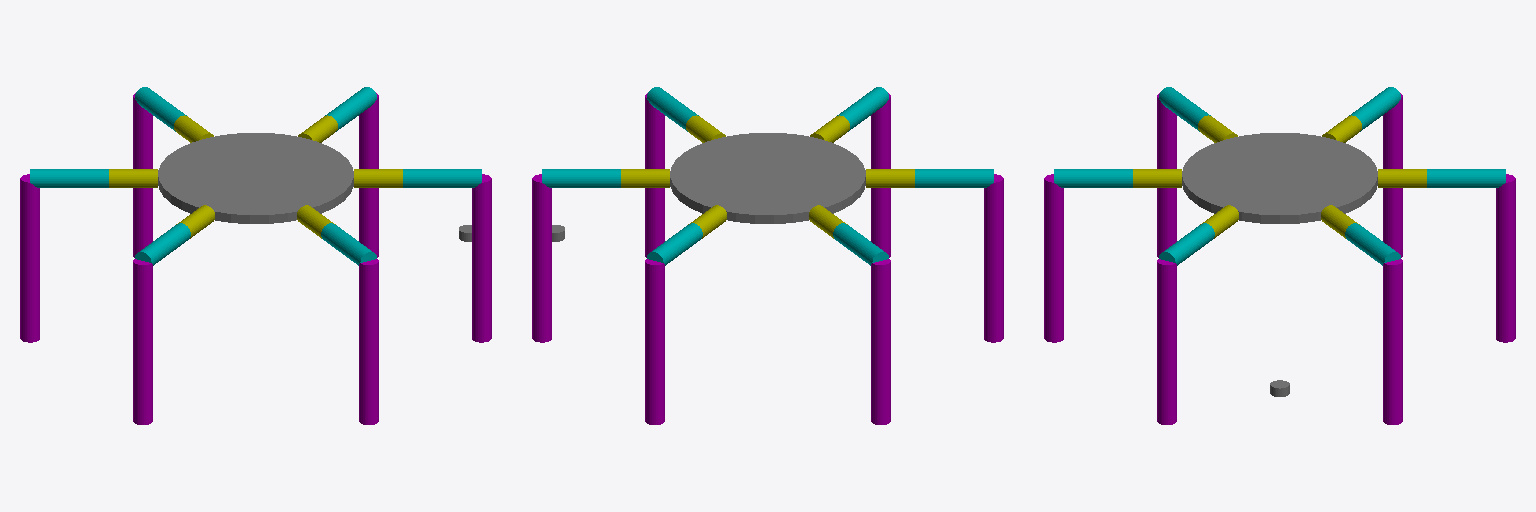
The robot description file, URDF, robot "crab":
<?xml version="1.0" ?>
<!-- =================================================================================== -->
<!-- |    This document was autogenerated by xacro from [local-path]/hexapod_ws/src/crab_proj/robot_discription/urdf/my_robotn4.xacro | -->
<!-- |    EDITING THIS FILE BY HAND IS NOT RECOMMENDED                                 | -->
<!-- =================================================================================== -->
<robot name="crab" xmlns:xacro="http://ros.org/wiki/xacro">
  <!-- Build the body frame -->
  <link name="base_link"/>
  <joint name="foot_tip_test" type="fixed">
    <parent link="base_link"/>
    <child link="foot_tip_test"/>
    <origin rpy="0 0 0" xyz="0 0 0"/>
  </joint>
  <link name="foot_tip_test">
    <visual>
      <origin rpy="0 0 0" xyz="250 0 -120"/>
      <geometry>
        <cylinder length="10" radius="10"/>
      </geometry>
      <material name="grey">
        <color rgba="0.5 0.5 0.5 1"/>
      </material>
    </visual>
  </link>
  <joint name="base_joint" type="fixed">
    <parent link="base_link"/>
    <child link="thorax"/>
    <origin rpy="0 0 0" xyz="0 0 0"/>
  </joint>
  <link name="thorax">
    <visual>
      <origin rpy="0 0 0" xyz="0 0 0"/>
      <geometry>
        <cylinder length="10" radius="100"/>
      </geometry>
      <material name="grey">
        <color rgba="0.5 0.5 0.5 1"/>
      </material>
    </visual>
  </link>
  <!-- Pi parameter -->
  <!-- Joint properties -->
  <!-- Leg macros -->
  <!-- Build robot model -->
  <!-- Build leg -->
  <joint name="leg_center_joint_r1" type="fixed">
    <origin rpy="0 0 0" xyz="86.6 -50 0"/>
    <parent link="thorax"/>
    <child link="leg_center_r1"/>
  </joint>
  <link name="leg_center_r1"/>
  <joint name="coxa_joint_r1" type="revolute">
    <origin rpy="0 0 -0.523598775598" xyz="0 0 0"/>
    <parent link="leg_center_r1"/>
    <child link="coxa_r1"/>
    <axis xyz="0 0 1"/>
    <limit effort="10000" lower="-1.9" upper="2.5" velocity="100"/>
  </joint>
  <!-- link: coxal1-->
  <link name="coxa_r1">
    <visual>
      <origin rpy="0 1.57079632679 0" xyz="25 0 0"/>
      <geometry>
        <cylinder length="50" radius="10"/>
      </geometry>
      <material name="">
        <color rgba="0.7 0.7 0 1"/>
      </material>
    </visual>
  </link>
  <joint name="femur_joint_r1" type="revolute">
    <origin rpy="-1.57079632679 0 0" xyz="50 0 0"/>
    <parent link="coxa_r1"/>
    <child link="femur_r1"/>
    <axis xyz="0 0 -1"/>
    <limit effort="10000" lower="-1.9" upper="2.5" velocity="100"/>
  </joint>
  <link name="femur_r1">
    <visual>
      <origin rpy="0 1.57079632679 0" xyz="40 0 0"/>
      <geometry>
        <cylinder length="80" radius="10"/>
      </geometry>
      <material name="">
        <color rgba="0 0.7 0.7 1"/>
      </material>
    </visual>
  </link>
  <joint name="tibia_joint_r1" type="revolute">
    <origin rpy="3.14159265359 0 1.57079632679" xyz="80 0 0"/>
    <parent link="femur_r1"/>
    <child link="tibia_r1"/>
    <axis xyz="0 0 1"/>
    <limit effort="10000" lower="-1.9" upper="2.5" velocity="100"/>
  </joint>
  <link name="tibia_r1">
    <visual>
      <origin rpy="0 1.57079632679 0" xyz="90 0 0"/>
      <geometry>
        <cylinder length="180" radius="10"/>
      </geometry>
      <material name="">
        <color rgba="0.7 0 0.7 1"/>
      </material>
    </visual>
  </link>
  <joint name="tibia_foot_joint_r1" type="fixed">
    <origin rpy="0 0 0" xyz="180 0 0"/>
    <parent link="tibia_r1"/>
    <child link="tibia_foot_r1"/>
  </joint>
  <link name="tibia_foot_r1"/>
  <!-- Build leg -->
  <joint name="leg_center_joint_r2" type="fixed">
    <origin rpy="0 0 0" xyz="0 -100 0"/>
    <parent link="thorax"/>
    <child link="leg_center_r2"/>
  </joint>
  <link name="leg_center_r2"/>
  <joint name="coxa_joint_r2" type="revolute">
    <origin rpy="0 0 -1.57079632679" xyz="0 0 0"/>
    <parent link="leg_center_r2"/>
    <child link="coxa_r2"/>
    <axis xyz="0 0 1"/>
    <limit effort="10000" lower="-1.9" upper="2.5" velocity="100"/>
  </joint>
  <!-- link: coxal1-->
  <link name="coxa_r2">
    <visual>
      <origin rpy="0 1.57079632679 0" xyz="25 0 0"/>
      <geometry>
        <cylinder length="50" radius="10"/>
      </geometry>
      <material name="">
        <color rgba="0.7 0.7 0 1"/>
      </material>
    </visual>
  </link>
  <joint name="femur_joint_r2" type="revolute">
    <origin rpy="-1.57079632679 0 0" xyz="50 0 0"/>
    <parent link="coxa_r2"/>
    <child link="femur_r2"/>
    <axis xyz="0 0 -1"/>
    <limit effort="10000" lower="-1.9" upper="2.5" velocity="100"/>
  </joint>
  <link name="femur_r2">
    <visual>
      <origin rpy="0 1.57079632679 0" xyz="40 0 0"/>
      <geometry>
        <cylinder length="80" radius="10"/>
      </geometry>
      <material name="">
        <color rgba="0 0.7 0.7 1"/>
      </material>
    </visual>
  </link>
  <joint name="tibia_joint_r2" type="revolute">
    <origin rpy="3.14159265359 0 1.57079632679" xyz="80 0 0"/>
    <parent link="femur_r2"/>
    <child link="tibia_r2"/>
    <axis xyz="0 0 1"/>
    <limit effort="10000" lower="-1.9" upper="2.5" velocity="100"/>
  </joint>
  <link name="tibia_r2">
    <visual>
      <origin rpy="0 1.57079632679 0" xyz="90 0 0"/>
      <geometry>
        <cylinder length="180" radius="10"/>
      </geometry>
      <material name="">
        <color rgba="0.7 0 0.7 1"/>
      </material>
    </visual>
  </link>
  <joint name="tibia_foot_joint_r2" type="fixed">
    <origin rpy="0 0 0" xyz="180 0 0"/>
    <parent link="tibia_r2"/>
    <child link="tibia_foot_r2"/>
  </joint>
  <link name="tibia_foot_r2"/>
  <!-- Build leg -->
  <joint name="leg_center_joint_r3" type="fixed">
    <origin rpy="0 0 0" xyz="-86.6 -50 0"/>
    <parent link="thorax"/>
    <child link="leg_center_r3"/>
  </joint>
  <link name="leg_center_r3"/>
  <joint name="coxa_joint_r3" type="revolute">
    <origin rpy="0 0 -2.61799387799" xyz="0 0 0"/>
    <parent link="leg_center_r3"/>
    <child link="coxa_r3"/>
    <axis xyz="0 0 1"/>
    <limit effort="10000" lower="-1.9" upper="2.5" velocity="100"/>
  </joint>
  <!-- link: coxal1-->
  <link name="coxa_r3">
    <visual>
      <origin rpy="0 1.57079632679 0" xyz="25 0 0"/>
      <geometry>
        <cylinder length="50" radius="10"/>
      </geometry>
      <material name="">
        <color rgba="0.7 0.7 0 1"/>
      </material>
    </visual>
  </link>
  <joint name="femur_joint_r3" type="revolute">
    <origin rpy="-1.57079632679 0 0" xyz="50 0 0"/>
    <parent link="coxa_r3"/>
    <child link="femur_r3"/>
    <axis xyz="0 0 -1"/>
    <limit effort="10000" lower="-1.9" upper="2.5" velocity="100"/>
  </joint>
  <link name="femur_r3">
    <visual>
      <origin rpy="0 1.57079632679 0" xyz="40 0 0"/>
      <geometry>
        <cylinder length="80" radius="10"/>
      </geometry>
      <material name="">
        <color rgba="0 0.7 0.7 1"/>
      </material>
    </visual>
  </link>
  <joint name="tibia_joint_r3" type="revolute">
    <origin rpy="3.14159265359 0 1.57079632679" xyz="80 0 0"/>
    <parent link="femur_r3"/>
    <child link="tibia_r3"/>
    <axis xyz="0 0 1"/>
    <limit effort="10000" lower="-1.9" upper="2.5" velocity="100"/>
  </joint>
  <link name="tibia_r3">
    <visual>
      <origin rpy="0 1.57079632679 0" xyz="90 0 0"/>
      <geometry>
        <cylinder length="180" radius="10"/>
      </geometry>
      <material name="">
        <color rgba="0.7 0 0.7 1"/>
      </material>
    </visual>
  </link>
  <joint name="tibia_foot_joint_r3" type="fixed">
    <origin rpy="0 0 0" xyz="180 0 0"/>
    <parent link="tibia_r3"/>
    <child link="tibia_foot_r3"/>
  </joint>
  <link name="tibia_foot_r3"/>
  <!-- Build leg -->
  <joint name="leg_center_joint_l1" type="fixed">
    <origin rpy="0 0 0" xyz="-86.6 50 0"/>
    <parent link="thorax"/>
    <child link="leg_center_l1"/>
  </joint>
  <link name="leg_center_l1"/>
  <joint name="coxa_joint_l1" type="revolute">
    <origin rpy="0 0 2.61799387799" xyz="0 0 0"/>
    <parent link="leg_center_l1"/>
    <child link="coxa_l1"/>
    <axis xyz="0 0 1"/>
    <limit effort="10000" lower="-1.9" upper="2.5" velocity="100"/>
  </joint>
  <!-- link: coxal1-->
  <link name="coxa_l1">
    <visual>
      <origin rpy="0 1.57079632679 0" xyz="25 0 0"/>
      <geometry>
        <cylinder length="50" radius="10"/>
      </geometry>
      <material name="">
        <color rgba="0.7 0.7 0 1"/>
      </material>
    </visual>
  </link>
  <joint name="femur_joint_l1" type="revolute">
    <origin rpy="-1.57079632679 0 0" xyz="50 0 0"/>
    <parent link="coxa_l1"/>
    <child link="femur_l1"/>
    <axis xyz="0 0 -1"/>
    <limit effort="10000" lower="-1.9" upper="2.5" velocity="100"/>
  </joint>
  <link name="femur_l1">
    <visual>
      <origin rpy="0 1.57079632679 0" xyz="40 0 0"/>
      <geometry>
        <cylinder length="80" radius="10"/>
      </geometry>
      <material name="">
        <color rgba="0 0.7 0.7 1"/>
      </material>
    </visual>
  </link>
  <joint name="tibia_joint_l1" type="revolute">
    <origin rpy="3.14159265359 0 1.57079632679" xyz="80 0 0"/>
    <parent link="femur_l1"/>
    <child link="tibia_l1"/>
    <axis xyz="0 0 1"/>
    <limit effort="10000" lower="-1.9" upper="2.5" velocity="100"/>
  </joint>
  <link name="tibia_l1">
    <visual>
      <origin rpy="0 1.57079632679 0" xyz="90 0 0"/>
      <geometry>
        <cylinder length="180" radius="10"/>
      </geometry>
      <material name="">
        <color rgba="0.7 0 0.7 1"/>
      </material>
    </visual>
  </link>
  <joint name="tibia_foot_joint_l1" type="fixed">
    <origin rpy="0 0 0" xyz="180 0 0"/>
    <parent link="tibia_l1"/>
    <child link="tibia_foot_l1"/>
  </joint>
  <link name="tibia_foot_l1"/>
  <!-- Build leg -->
  <joint name="leg_center_joint_l2" type="fixed">
    <origin rpy="0 0 0" xyz="0 100 0"/>
    <parent link="thorax"/>
    <child link="leg_center_l2"/>
  </joint>
  <link name="leg_center_l2"/>
  <joint name="coxa_joint_l2" type="revolute">
    <origin rpy="0 0 1.57079632679" xyz="0 0 0"/>
    <parent link="leg_center_l2"/>
    <child link="coxa_l2"/>
    <axis xyz="0 0 1"/>
    <limit effort="10000" lower="-1.9" upper="2.5" velocity="100"/>
  </joint>
  <!-- link: coxal1-->
  <link name="coxa_l2">
    <visual>
      <origin rpy="0 1.57079632679 0" xyz="25 0 0"/>
      <geometry>
        <cylinder length="50" radius="10"/>
      </geometry>
      <material name="">
        <color rgba="0.7 0.7 0 1"/>
      </material>
    </visual>
  </link>
  <joint name="femur_joint_l2" type="revolute">
    <origin rpy="-1.57079632679 0 0" xyz="50 0 0"/>
    <parent link="coxa_l2"/>
    <child link="femur_l2"/>
    <axis xyz="0 0 -1"/>
    <limit effort="10000" lower="-1.9" upper="2.5" velocity="100"/>
  </joint>
  <link name="femur_l2">
    <visual>
      <origin rpy="0 1.57079632679 0" xyz="40 0 0"/>
      <geometry>
        <cylinder length="80" radius="10"/>
      </geometry>
      <material name="">
        <color rgba="0 0.7 0.7 1"/>
      </material>
    </visual>
  </link>
  <joint name="tibia_joint_l2" type="revolute">
    <origin rpy="3.14159265359 0 1.57079632679" xyz="80 0 0"/>
    <parent link="femur_l2"/>
    <child link="tibia_l2"/>
    <axis xyz="0 0 1"/>
    <limit effort="10000" lower="-1.9" upper="2.5" velocity="100"/>
  </joint>
  <link name="tibia_l2">
    <visual>
      <origin rpy="0 1.57079632679 0" xyz="90 0 0"/>
      <geometry>
        <cylinder length="180" radius="10"/>
      </geometry>
      <material name="">
        <color rgba="0.7 0 0.7 1"/>
      </material>
    </visual>
  </link>
  <joint name="tibia_foot_joint_l2" type="fixed">
    <origin rpy="0 0 0" xyz="180 0 0"/>
    <parent link="tibia_l2"/>
    <child link="tibia_foot_l2"/>
  </joint>
  <link name="tibia_foot_l2"/>
  <!-- Build leg -->
  <joint name="leg_center_joint_l3" type="fixed">
    <origin rpy="0 0 0" xyz="86.6 50 0"/>
    <parent link="thorax"/>
    <child link="leg_center_l3"/>
  </joint>
  <link name="leg_center_l3"/>
  <joint name="coxa_joint_l3" type="revolute">
    <origin rpy="0 0 0.523598775598" xyz="0 0 0"/>
    <parent link="leg_center_l3"/>
    <child link="coxa_l3"/>
    <axis xyz="0 0 1"/>
    <limit effort="10000" lower="-1.9" upper="2.5" velocity="100"/>
  </joint>
  <!-- link: coxal1-->
  <link name="coxa_l3">
    <visual>
      <origin rpy="0 1.57079632679 0" xyz="25 0 0"/>
      <geometry>
        <cylinder length="50" radius="10"/>
      </geometry>
      <material name="">
        <color rgba="0.7 0.7 0 1"/>
      </material>
    </visual>
  </link>
  <joint name="femur_joint_l3" type="revolute">
    <origin rpy="-1.57079632679 0 0" xyz="50 0 0"/>
    <parent link="coxa_l3"/>
    <child link="femur_l3"/>
    <axis xyz="0 0 -1"/>
    <limit effort="10000" lower="-1.9" upper="2.5" velocity="100"/>
  </joint>
  <link name="femur_l3">
    <visual>
      <origin rpy="0 1.57079632679 0" xyz="40 0 0"/>
      <geometry>
        <cylinder length="80" radius="10"/>
      </geometry>
      <material name="">
        <color rgba="0 0.7 0.7 1"/>
      </material>
    </visual>
  </link>
  <joint name="tibia_joint_l3" type="revolute">
    <origin rpy="3.14159265359 0 1.57079632679" xyz="80 0 0"/>
    <parent link="femur_l3"/>
    <child link="tibia_l3"/>
    <axis xyz="0 0 1"/>
    <limit effort="10000" lower="-1.9" upper="2.5" velocity="100"/>
  </joint>
  <link name="tibia_l3">
    <visual>
      <origin rpy="0 1.57079632679 0" xyz="90 0 0"/>
      <geometry>
        <cylinder length="180" radius="10"/>
      </geometry>
      <material name="">
        <color rgba="0.7 0 0.7 1"/>
      </material>
    </visual>
  </link>
  <joint name="tibia_foot_joint_l3" type="fixed">
    <origin rpy="0 0 0" xyz="180 0 0"/>
    <parent link="tibia_l3"/>
    <child link="tibia_foot_l3"/>
  </joint>
  <link name="tibia_foot_l3"/>
</robot>

--- Facts derived from the render (not from the file) ---
The picture shows the robot from 3 angles, left to right: view 1: azimuth 30°, elevation 25°; view 2: azimuth 150°, elevation 25°; view 3: azimuth 270°, elevation 25°; orthographic projection.
Robot: crab — 33 links, 32 joints (18 revolute, 14 fixed); root link base_link; default pose: all joints at 0.
Links seen in each view (by area): view 1: thorax, tibia_r2, tibia_r3, tibia_r1, tibia_l1, tibia_l2, tibia_l3, femur_r1, femur_l1, femur_r2, femur_r3, femur_l2 (+7 smaller); view 2: thorax, tibia_l1, tibia_l2, tibia_r3, tibia_l3, tibia_r1, tibia_r2, femur_r3, femur_l3, femur_l1, femur_l2, femur_r1 (+7 smaller); view 3: thorax, tibia_r1, tibia_l3, tibia_r2, tibia_l2, tibia_r3, tibia_l1, femur_r2, femur_l2, femur_r1, femur_l3, femur_r3 (+7 smaller).
Boxes of the visible links, bbox=[...] form: thorax: bbox=[158, 133, 353, 223]; tibia_r2: bbox=[359, 259, 378, 424]; tibia_r3: bbox=[133, 259, 152, 424]; tibia_r1: bbox=[472, 174, 491, 342]; tibia_l1: bbox=[20, 174, 39, 342]; tibia_l2: bbox=[133, 93, 152, 257]; tibia_l3: bbox=[359, 93, 378, 257]; femur_r1: bbox=[403, 169, 481, 187]; femur_l1: bbox=[30, 169, 108, 187]; femur_r2: bbox=[321, 223, 376, 265]; femur_r3: bbox=[135, 223, 190, 265]; femur_l2: bbox=[135, 87, 186, 131]; thorax: bbox=[670, 133, 865, 223]; tibia_l1: bbox=[871, 259, 890, 424]; tibia_l2: bbox=[645, 259, 664, 424]; tibia_r3: bbox=[984, 174, 1003, 342]; tibia_l3: bbox=[532, 174, 551, 342]; tibia_r1: bbox=[645, 93, 664, 257]; tibia_r2: bbox=[871, 93, 890, 257]; femur_r3: bbox=[915, 169, 993, 187]; femur_l3: bbox=[542, 169, 620, 187]; femur_l1: bbox=[833, 223, 888, 265]; femur_l2: bbox=[647, 223, 702, 265]; femur_r1: bbox=[647, 87, 698, 131]; thorax: bbox=[1182, 133, 1377, 223]; tibia_r1: bbox=[1157, 259, 1176, 424]; tibia_l3: bbox=[1383, 259, 1402, 424]; tibia_r2: bbox=[1044, 174, 1063, 342]; tibia_l2: bbox=[1496, 174, 1515, 342]; tibia_r3: bbox=[1157, 93, 1176, 257]; tibia_l1: bbox=[1383, 93, 1402, 257]; femur_r2: bbox=[1054, 169, 1132, 187]; femur_l2: bbox=[1427, 169, 1505, 187]; femur_r1: bbox=[1159, 223, 1214, 265]; femur_l3: bbox=[1345, 223, 1400, 265]; femur_r3: bbox=[1159, 87, 1210, 131].
Bounding box of the posed robot: 469 × 480 × 190 m (x, y, z).
Geometry: primitives only (box / cylinder / sphere), no mesh files.